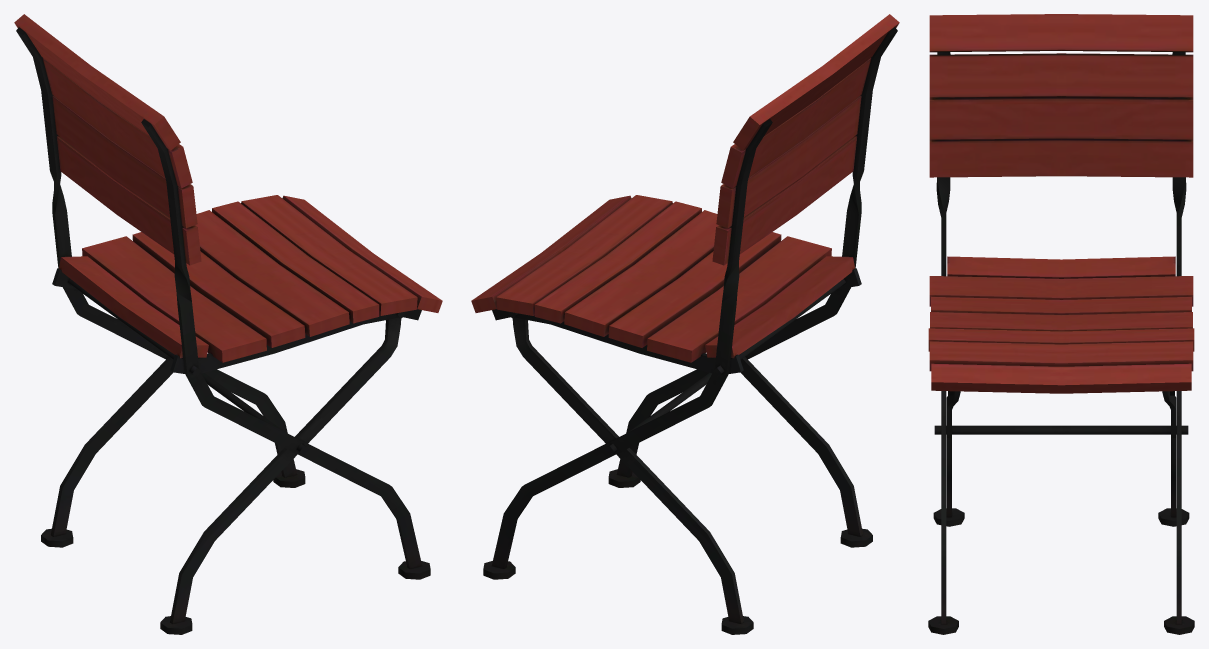
3 views of the same model, side by side, from view 1: azimuth 30°, elevation 25°; view 2: azimuth 150°, elevation 25°; view 3: azimuth 270°, elevation 25° (orthographic). The views are drawn at different scales.
Parts seen in each view (by area): view 1: body0_model0_lod0_mesh0; view 2: body0_model0_lod0_mesh0; view 3: body0_model0_lod0_mesh0.
Boxes of the visible parts, left/top/right/bottom form: body0_model0_lod0_mesh0: left=14, top=14, right=442, bottom=634; body0_model0_lod0_mesh0: left=471, top=14, right=899, bottom=634; body0_model0_lod0_mesh0: left=928, top=14, right=1194, bottom=634.
Bounding box in the file's own units: 28.41 × 48.75 × 23.82.
Materials: 1 (1 with a texture image).
